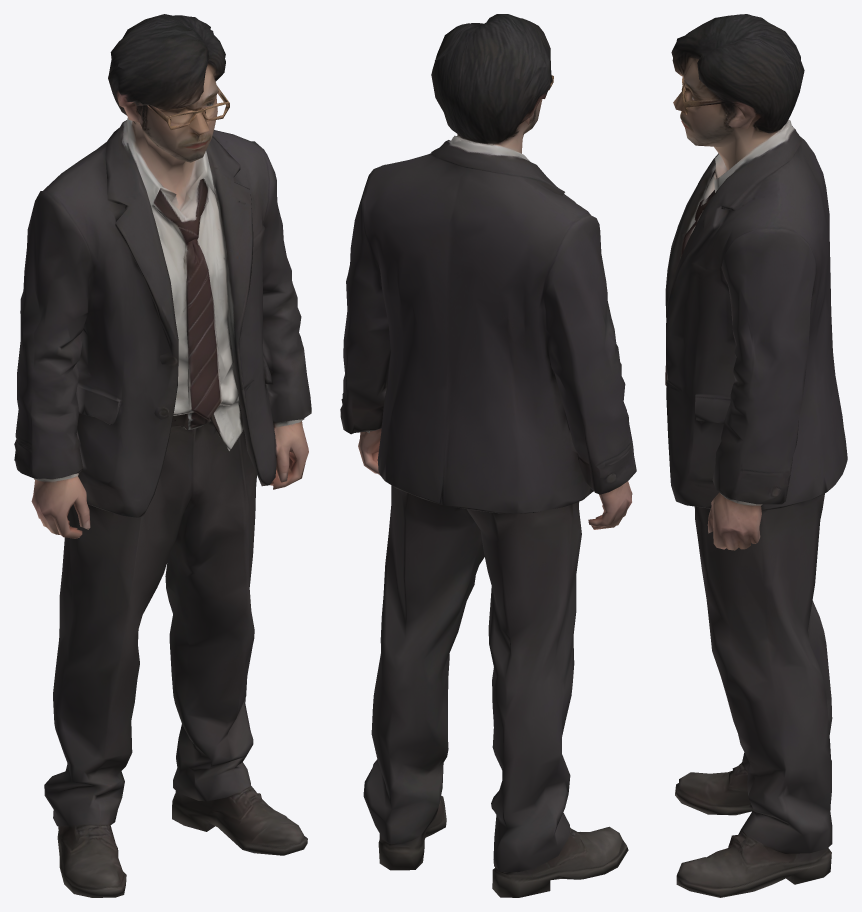
The model's file is CHR_OTHER_NPCS_FATHER_v001_RAW.glb.
3 views of the same model, side by side, from view 1: azimuth 30°, elevation 25°; view 2: azimuth 150°, elevation 25°; view 3: azimuth 270°, elevation 25° (orthographic).
Parts seen in each view (by area): view 1: tripo_node_ba5e8a3c-7f35-4ced-9faa-3afad9220d3a; view 2: tripo_node_ba5e8a3c-7f35-4ced-9faa-3afad9220d3a; view 3: tripo_node_ba5e8a3c-7f35-4ced-9faa-3afad9220d3a.
Part boxes in pixels (box(x1,y1,x2,y2)): tripo_node_ba5e8a3c-7f35-4ced-9faa-3afad9220d3a: box(14, 14, 311, 897); tripo_node_ba5e8a3c-7f35-4ced-9faa-3afad9220d3a: box(340, 14, 636, 897); tripo_node_ba5e8a3c-7f35-4ced-9faa-3afad9220d3a: box(665, 14, 847, 897).
Size of the model in its own units: 0.345 by 0.9793 by 0.1964.
Materials: 1 (1 with a texture image).
